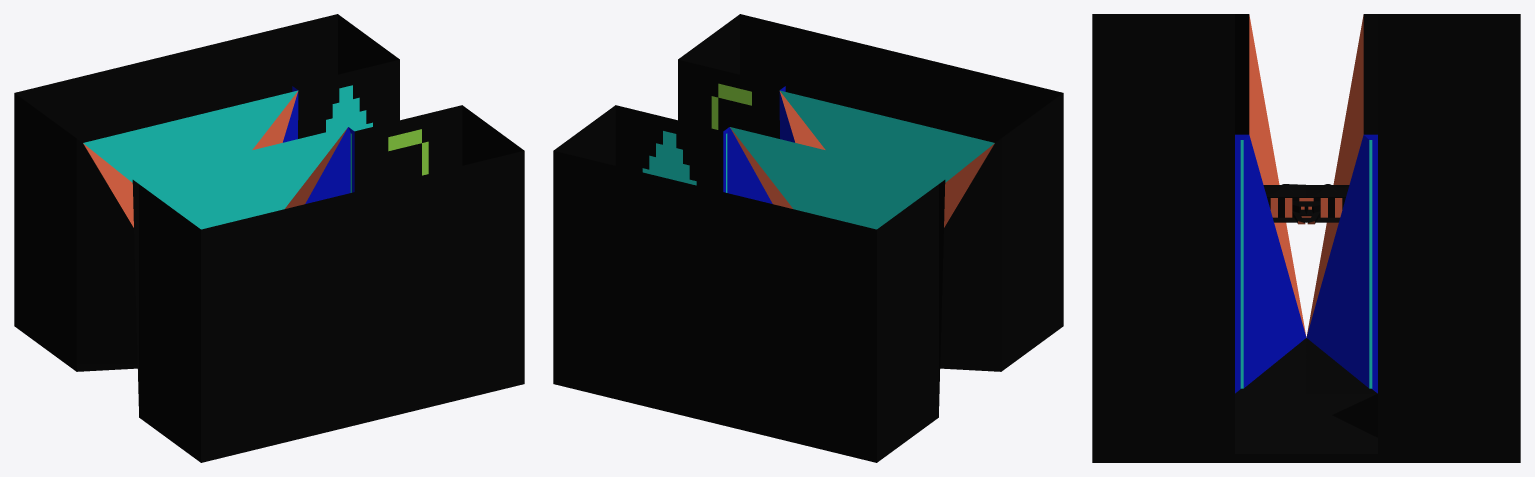
The model's file is StartBlock.fbx.
3 views of the same model, side by side, from view 1: azimuth 30°, elevation 25°; view 2: azimuth 150°, elevation 25°; view 3: azimuth 270°, elevation 25° (orthographic). The views are drawn at different scales.
Visible parts, largest first — view 1: Cube.002; view 2: Cube.002; view 3: Cube.002.
Boxes of the visible parts, box(x1,y1,x2,y2) form: Cube.002: box(14, 14, 524, 462); Cube.002: box(553, 14, 1063, 462); Cube.002: box(1092, 14, 1520, 462).
Size of the model in its own units: 300 by 207 by 300.
